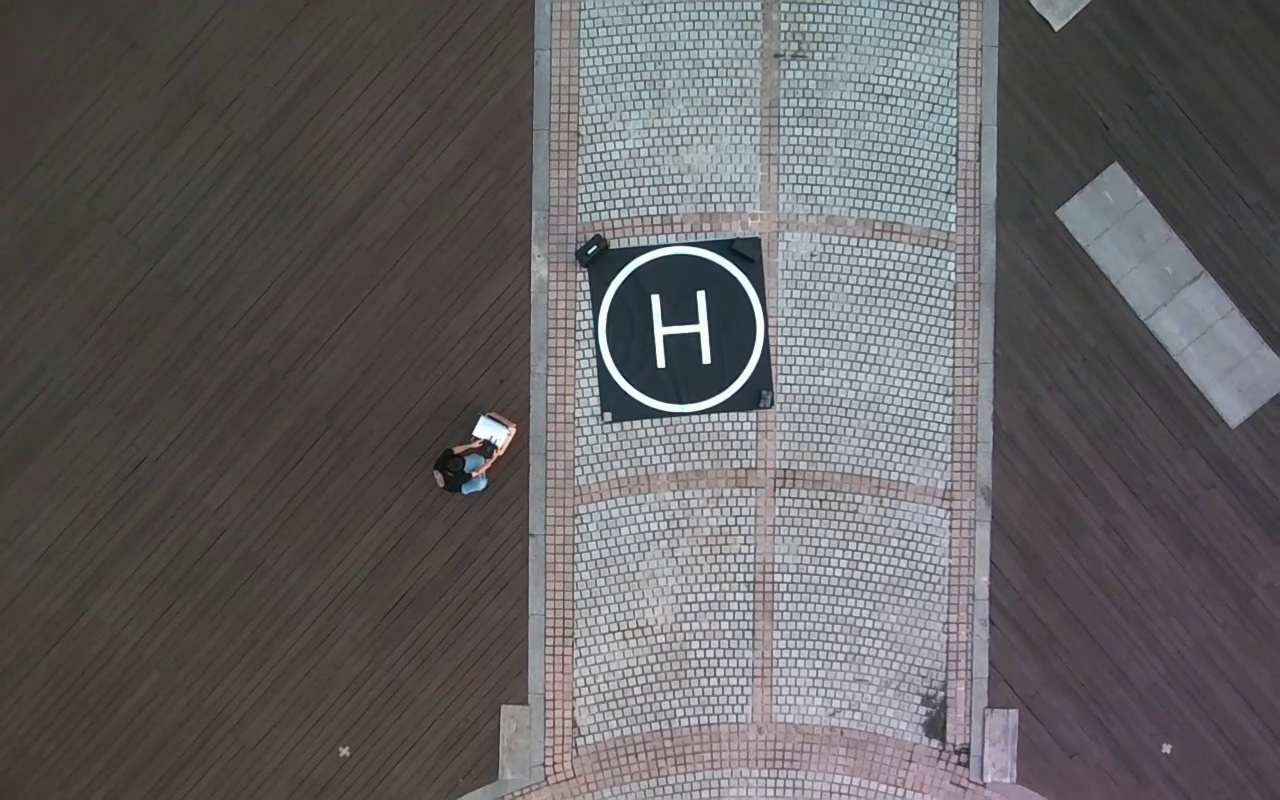H: (648, 288, 715, 368)
heliport: (593, 245, 768, 413)
